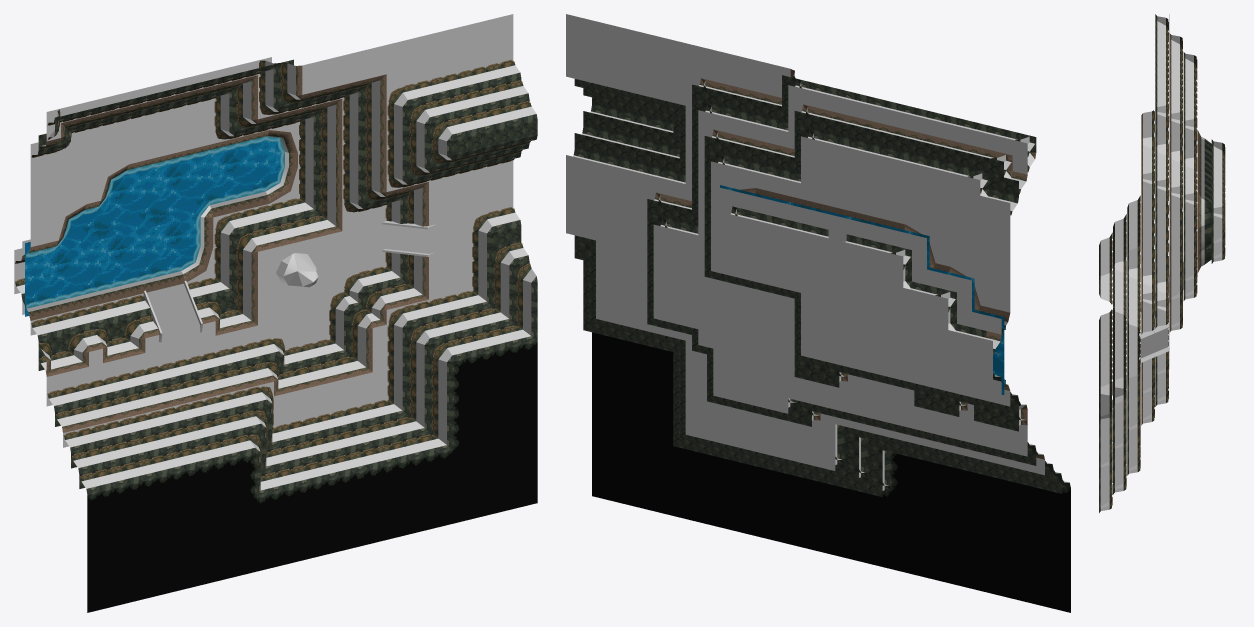
Rendered from Victory-Road-2_01_08.obj.
3 renders of one model, left to right at view 1: azimuth 30°, elevation 25°; view 2: azimuth 150°, elevation 25°; view 3: azimuth 270°, elevation 25°, orthographic. The views are drawn at different scales.
Parts seen in each view (by area): view 1: map; view 2: map; view 3: map.
Boxes of the visible parts, <box> form: map: <box>14,14,537,612</box>; map: <box>566,14,1070,612</box>; map: <box>1099,14,1225,512</box>.
Bounding box in the file's own units: 32 × 32 × 10.
